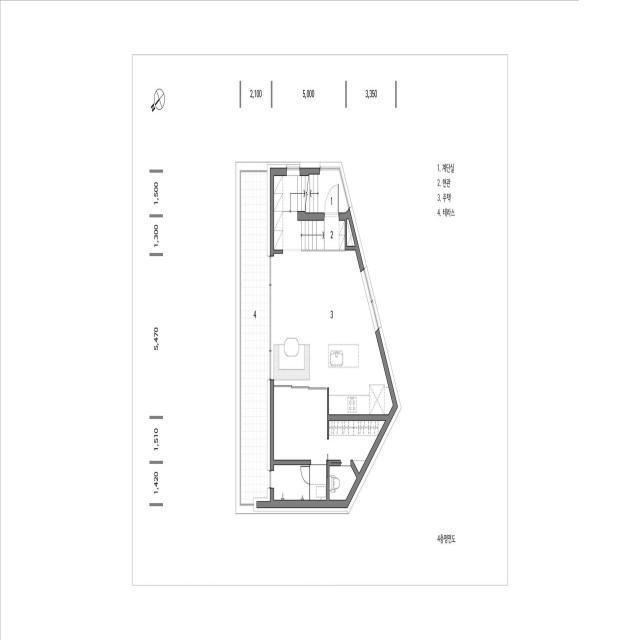space_balconi: (241, 172, 267, 504)
space_bedroom: (274, 389, 327, 460)
space_dressroom: (329, 421, 385, 473)
space_front: (274, 176, 345, 250)
space_kitchen: (329, 344, 393, 414)
space_living_room: (271, 250, 378, 385)
space_other: (347, 219, 355, 246)
space_staircase: (298, 170, 348, 213)
space_toilet: (274, 465, 326, 500), (329, 466, 357, 500)
